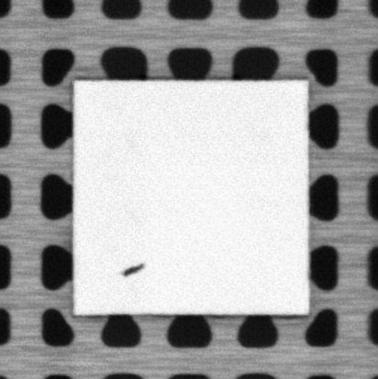DIE_INK: (120, 262, 142, 276)
